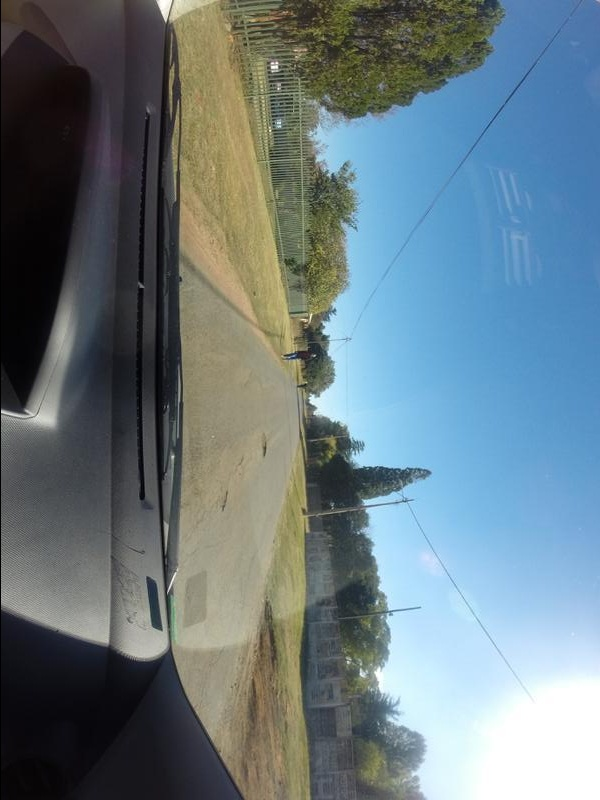pothole: (239, 680, 261, 738), (260, 613, 277, 677), (212, 489, 237, 522), (257, 431, 271, 460)
